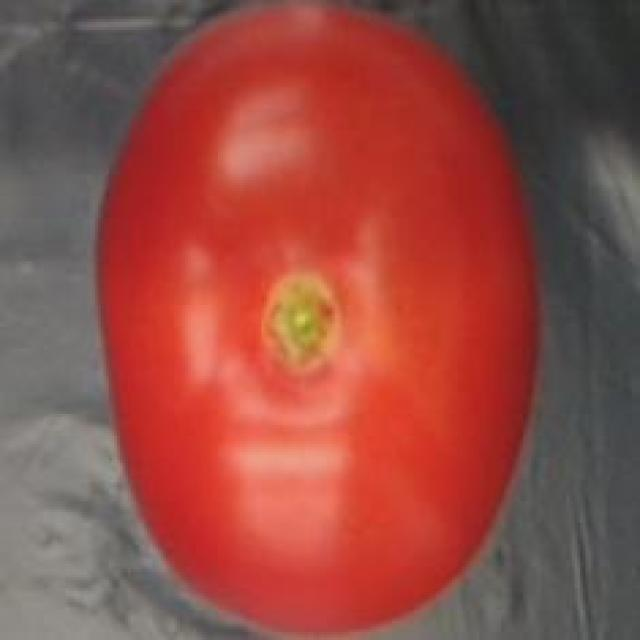ripe tomato: (76, 0, 558, 640)
